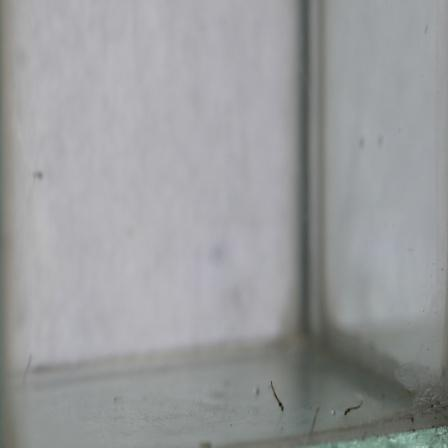Jentik-Nyamuk: (266, 376, 288, 416), (338, 398, 366, 418)
